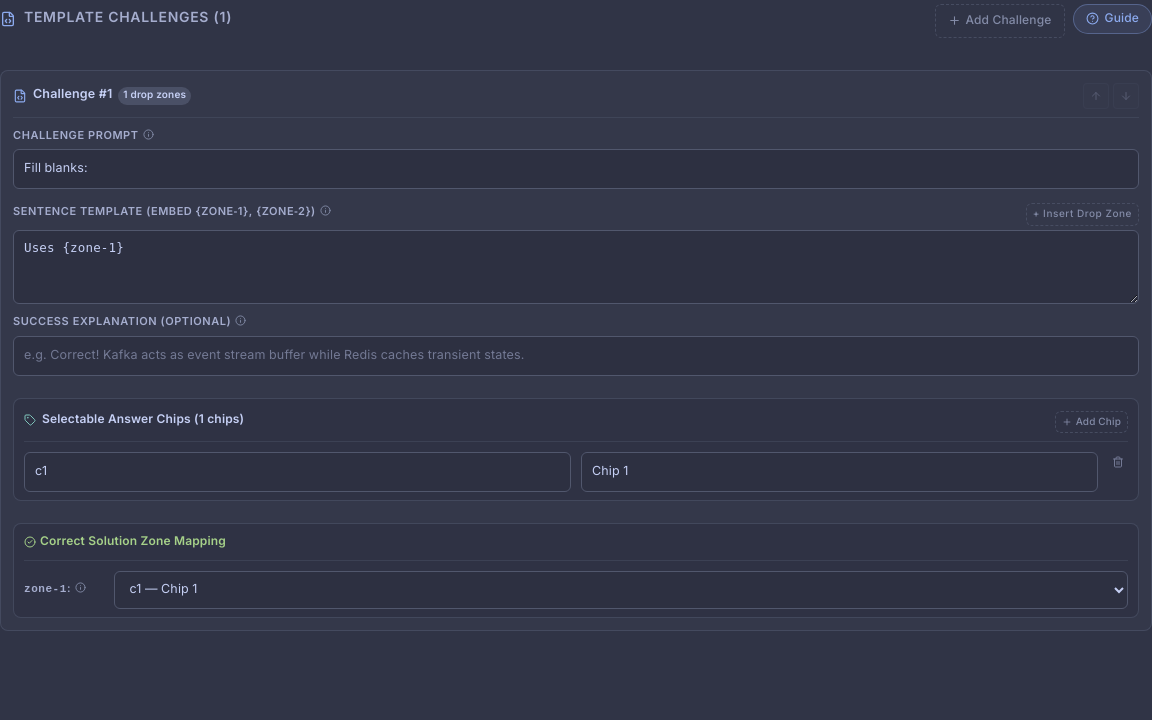
Test: VisualFormEditor › renders reflection template form editor for reflection-template type
Expected: the button with test id "reflection-template-add-challenge" is shown, [935,4,1064,38]
# Test guide modal
Click the button with test id "reflection-template-editor-help-btn" at (1112, 19), box [1072,4,1151,34]
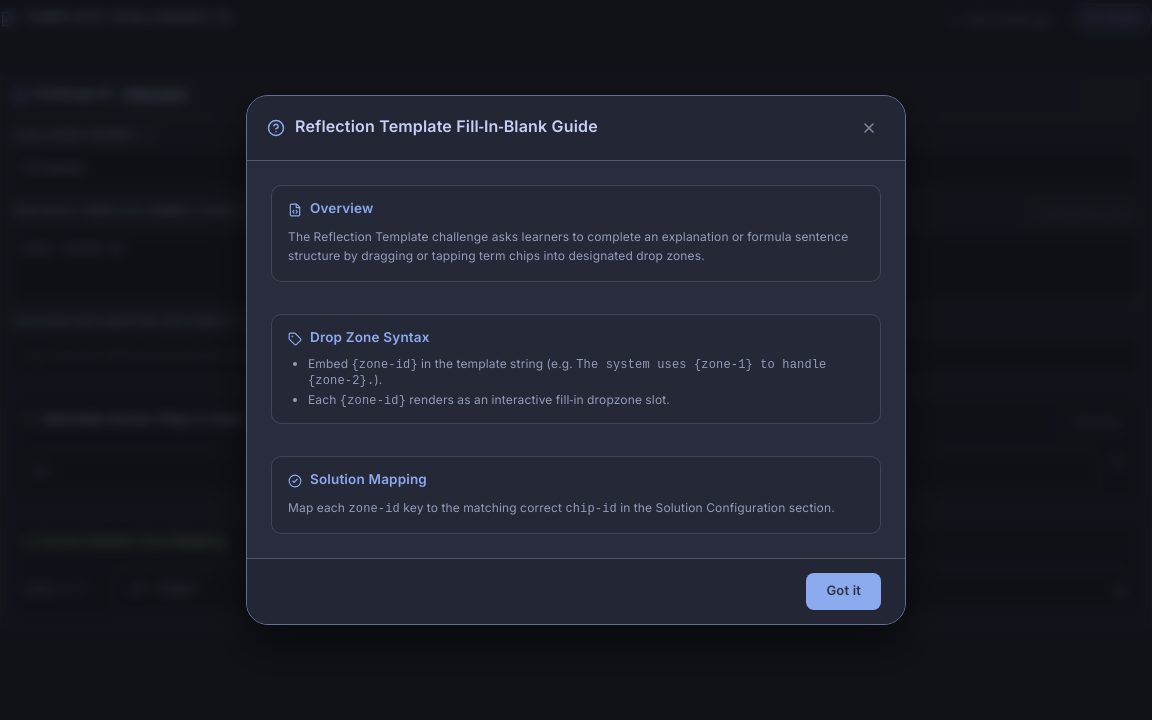
Expected: the element with test id "reflection-template-help-modal" is shown
